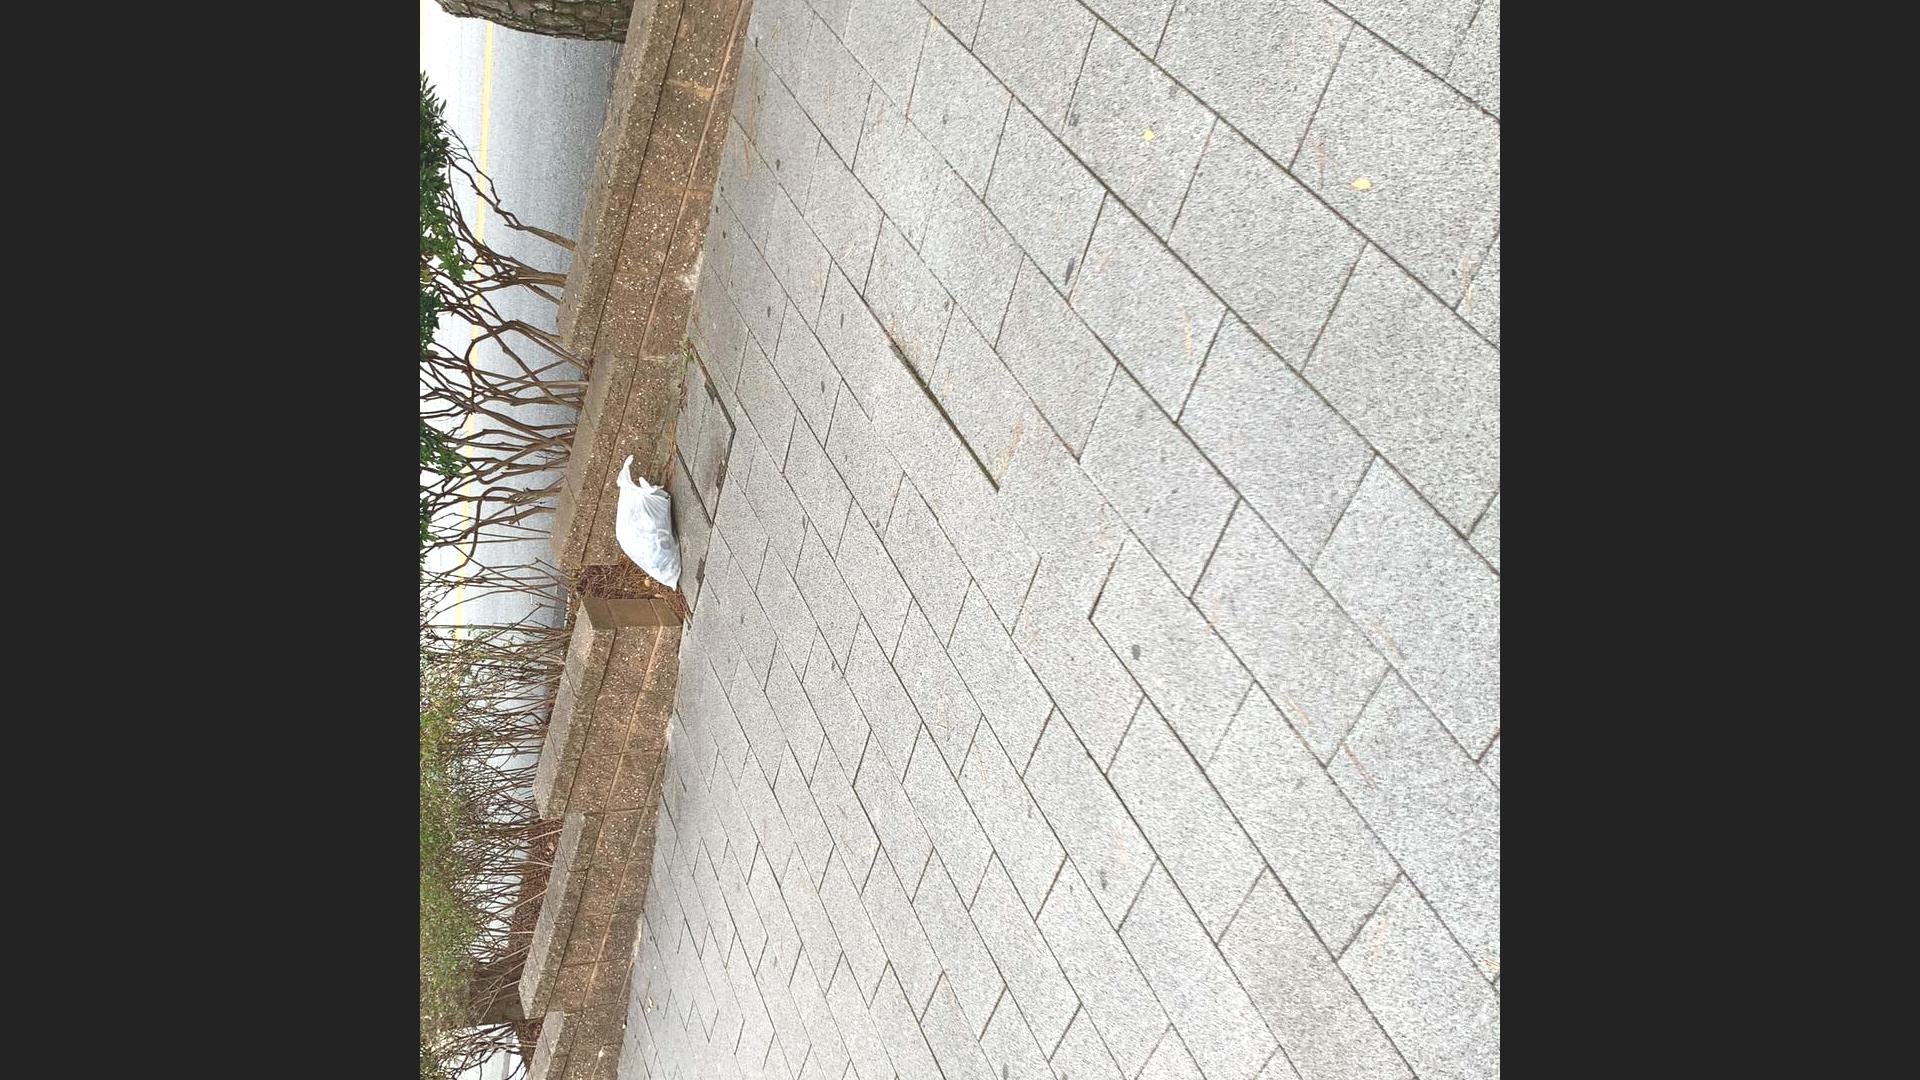white_bag: (608, 451, 687, 600)
